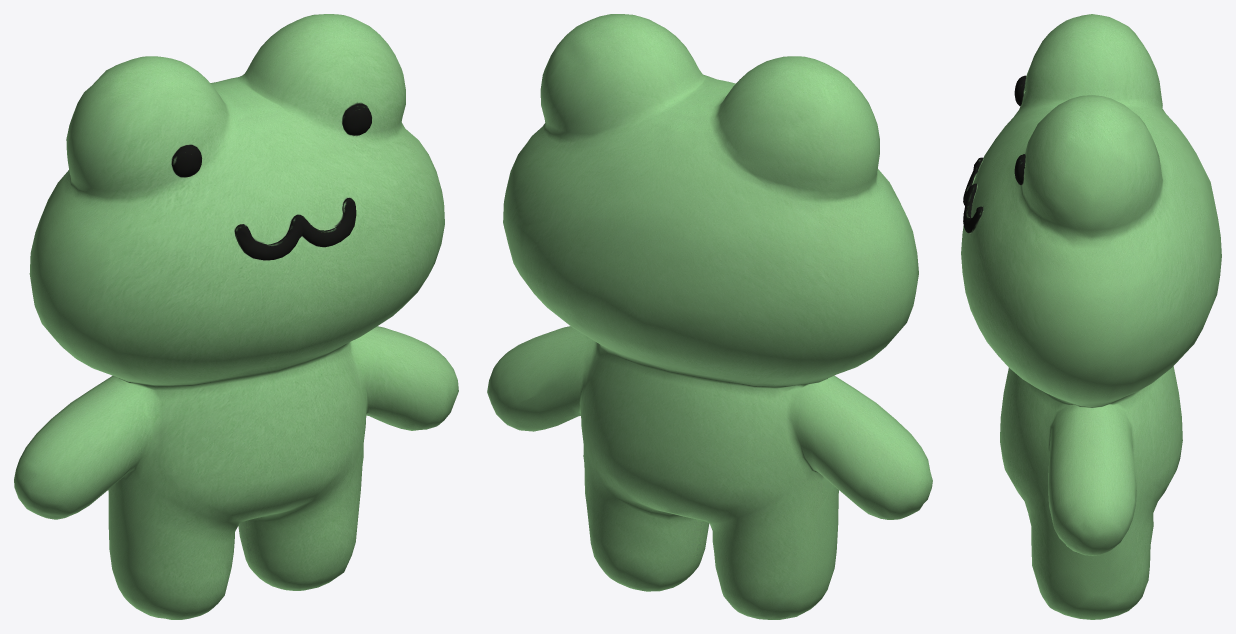
The model's file is Meshy_AI_Minty_Frog_Plush_20261126_texture.fbx.
3 views of the same model, side by side, from view 1: azimuth 30°, elevation 25°; view 2: azimuth 150°, elevation 25°; view 3: azimuth 270°, elevation 25° (orthographic). The views are drawn at different scales.
Parts seen in each view (by area): view 1: Mesh_0; view 2: Mesh_0; view 3: Mesh_0.
Boxes of the visible parts, box(x1,y1,x2,y2) form: Mesh_0: box(14, 14, 458, 619); Mesh_0: box(487, 14, 932, 619); Mesh_0: box(961, 14, 1221, 619).
Bounding box in the file's own units: 77.59 × 95.02 × 42.68.
Materials: 1 (1 with a texture image).
